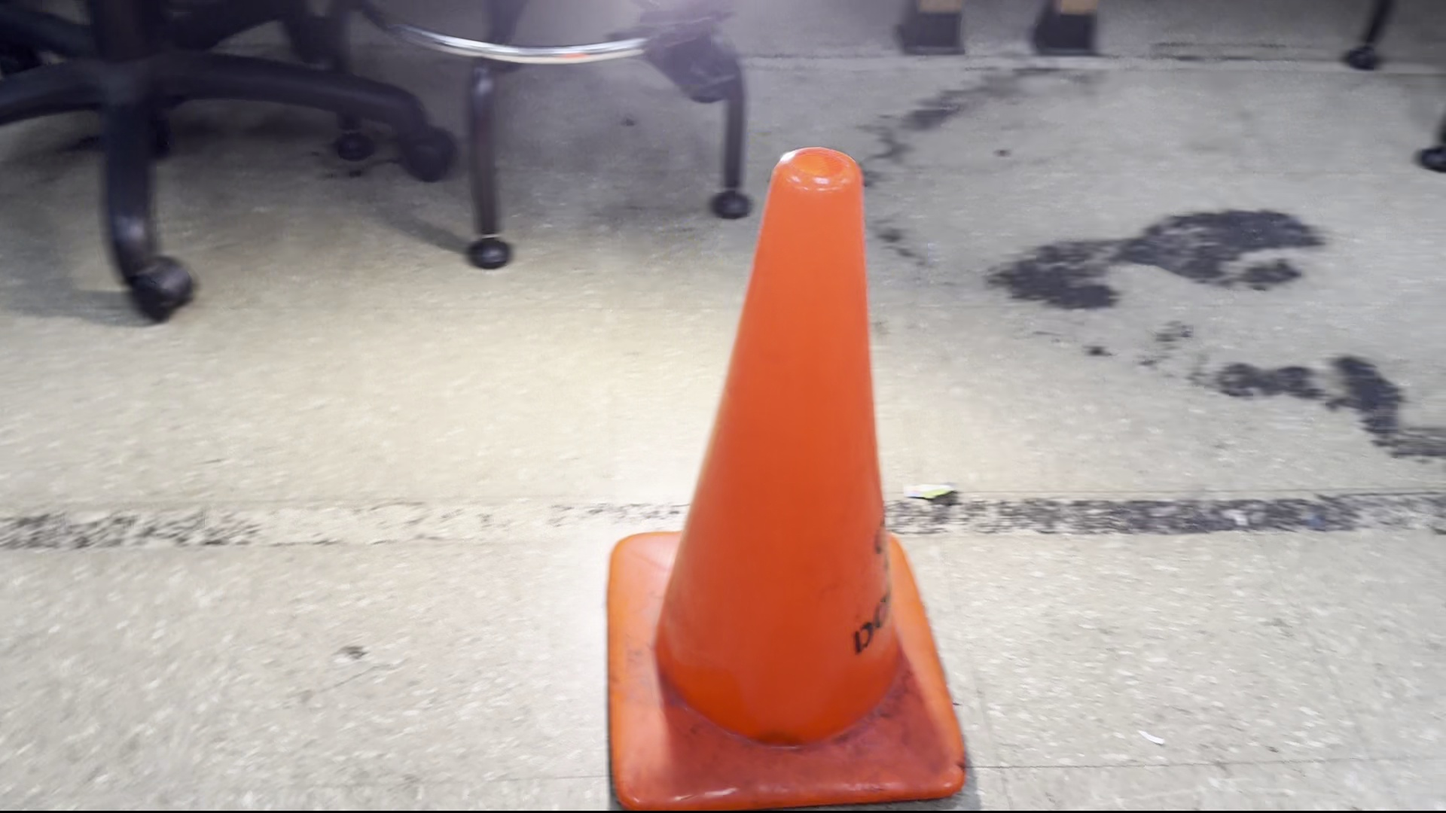traffic_cone: (606, 145, 968, 810)
